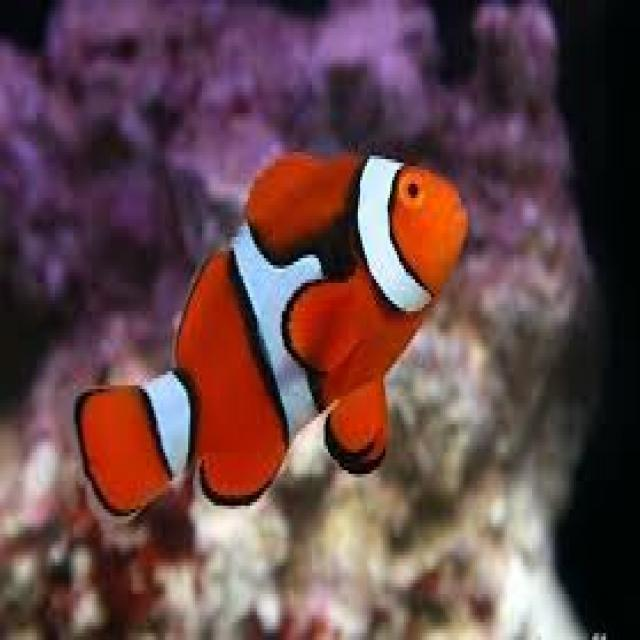ClownFish: (65, 151, 471, 523)
